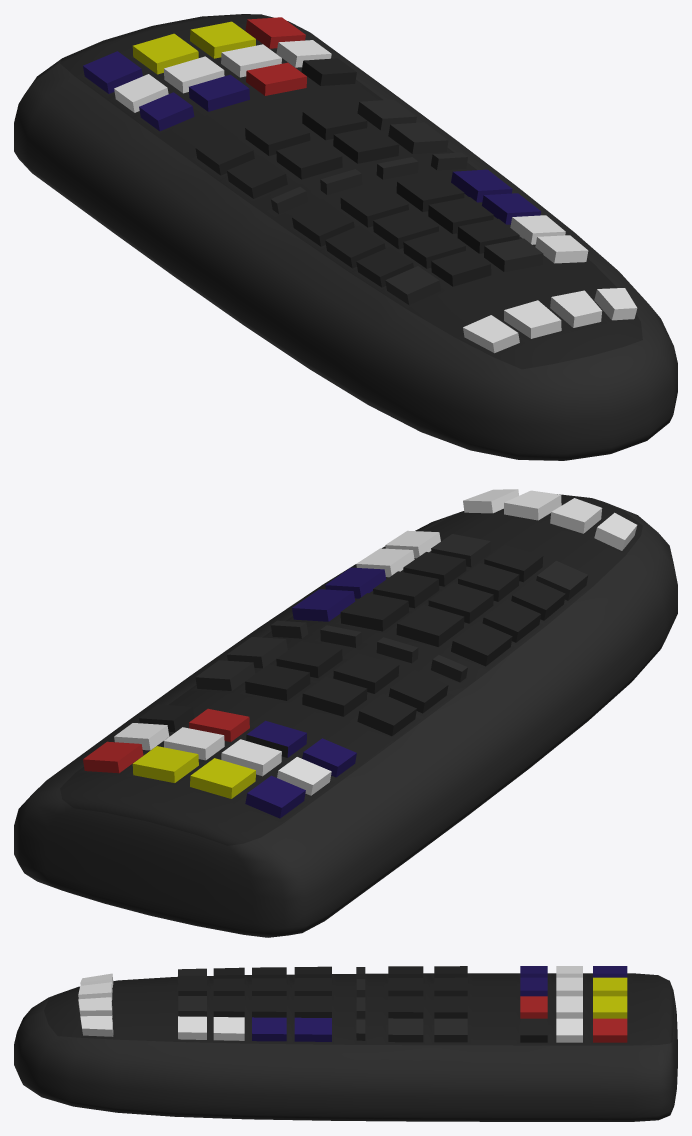
Rendered from Tv Remote.fbx.
3 views of the same model, one above another, from view 1: azimuth 30°, elevation 25°; view 2: azimuth 150°, elevation 25°; view 3: azimuth 270°, elevation 25° (orthographic). The views are drawn at different scales.
Parts seen in each view (by area): view 1: Tv_Remote; view 2: Tv_Remote; view 3: Tv_Remote.
Boxes of the visible parts, x1,y1,x2,y2 form: Tv_Remote: (14, 14, 677, 460); Tv_Remote: (14, 489, 677, 937); Tv_Remote: (14, 966, 677, 1121).
Size of the model in its own units: 0.183 by 0.0702 by 0.4888.
